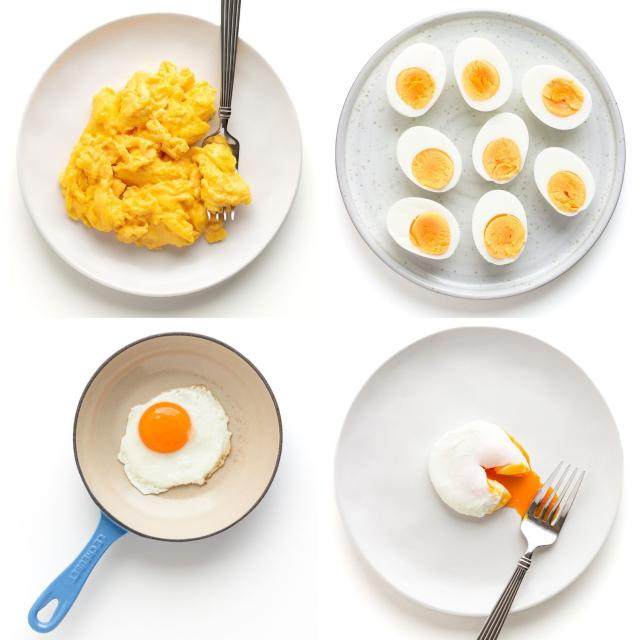Egg: (118, 385, 231, 494), (429, 420, 530, 518)
